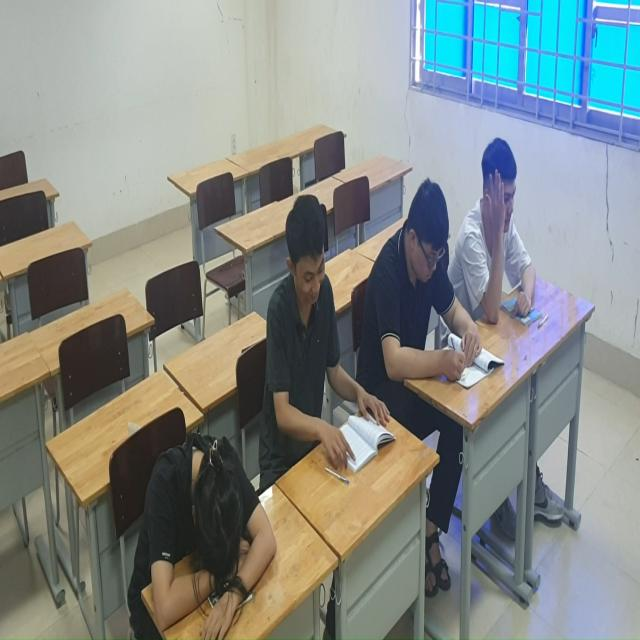raise_hand: (476, 137, 538, 324)
read: (261, 188, 399, 483), (387, 183, 479, 416)
sleep: (118, 435, 278, 628)
